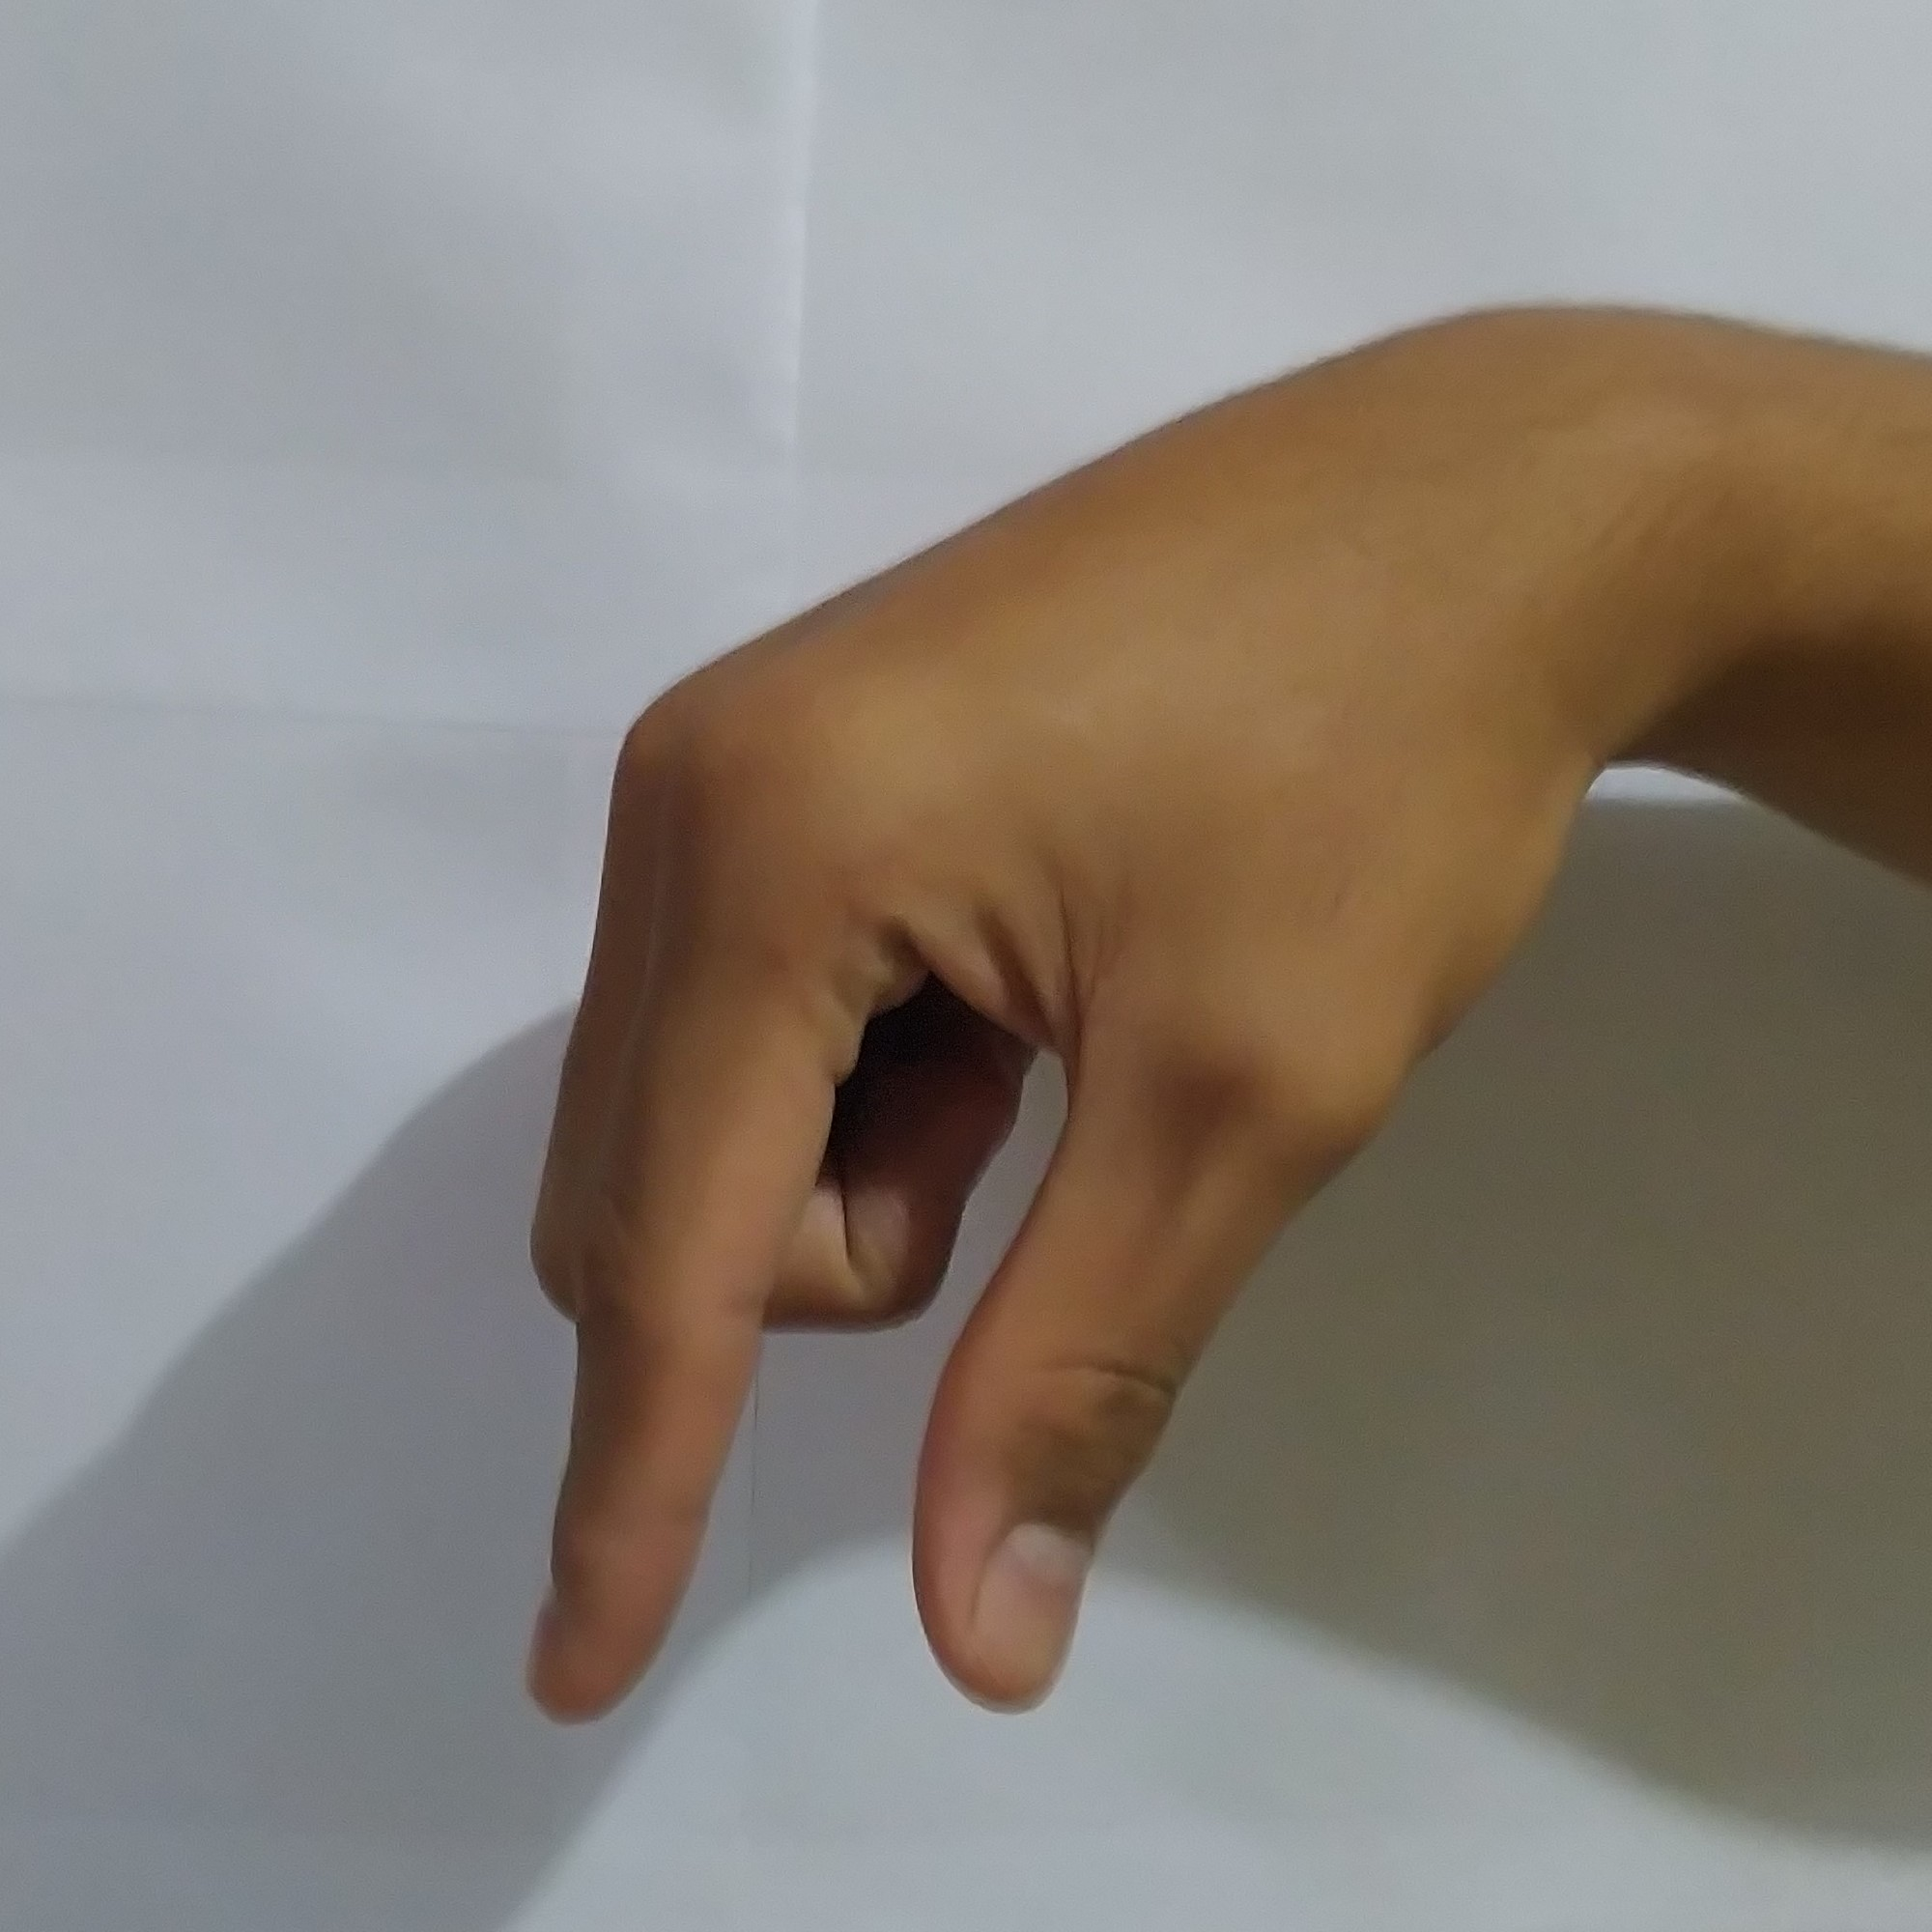Q: (471, 292, 1592, 1746)
